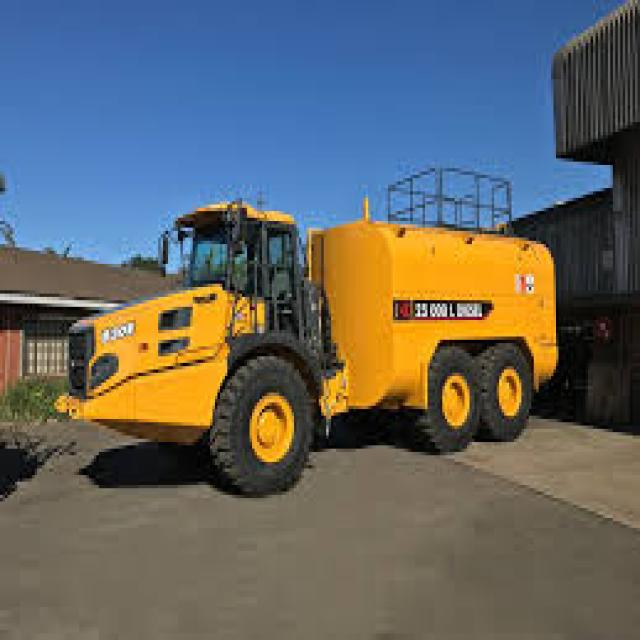dump_truck: (35, 148, 568, 505)
